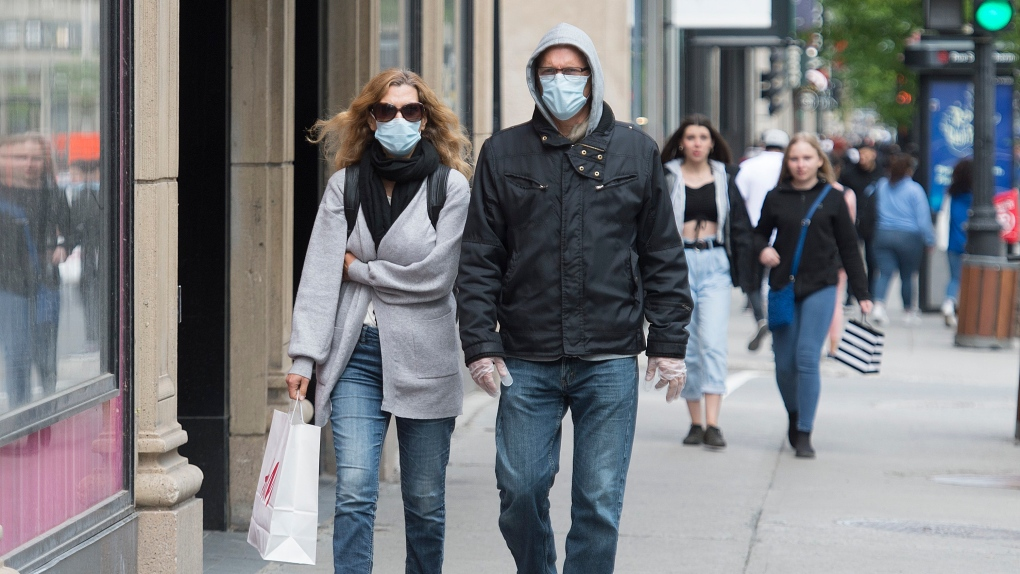with_mask: (545, 54, 591, 121), (375, 91, 417, 153)
without_mask: (790, 146, 815, 180), (686, 132, 710, 162)
